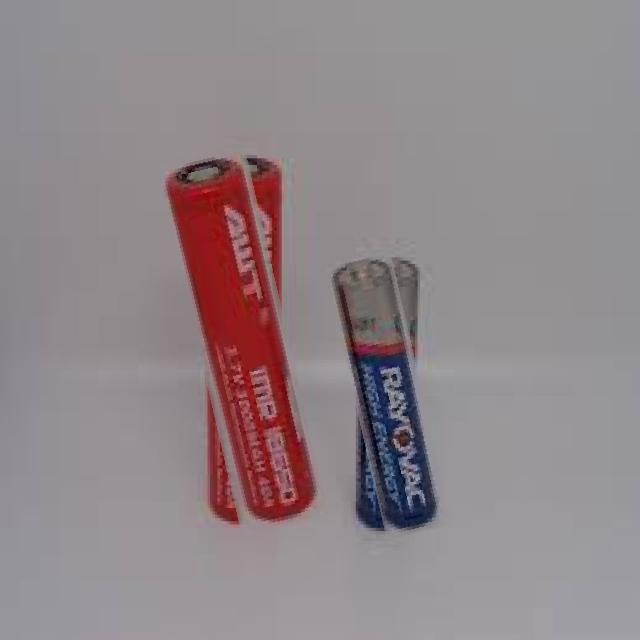Battery: (166, 155, 322, 525), (329, 257, 442, 537), (245, 158, 290, 306), (386, 257, 418, 368)
